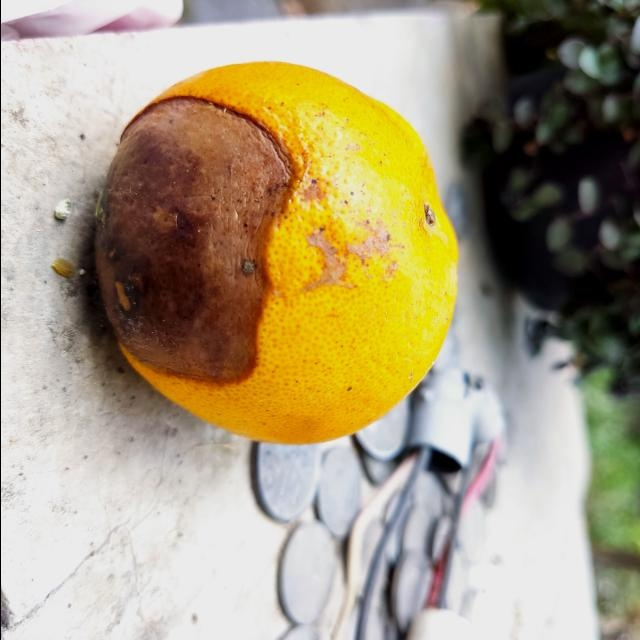agrume: (85, 59, 463, 445)
